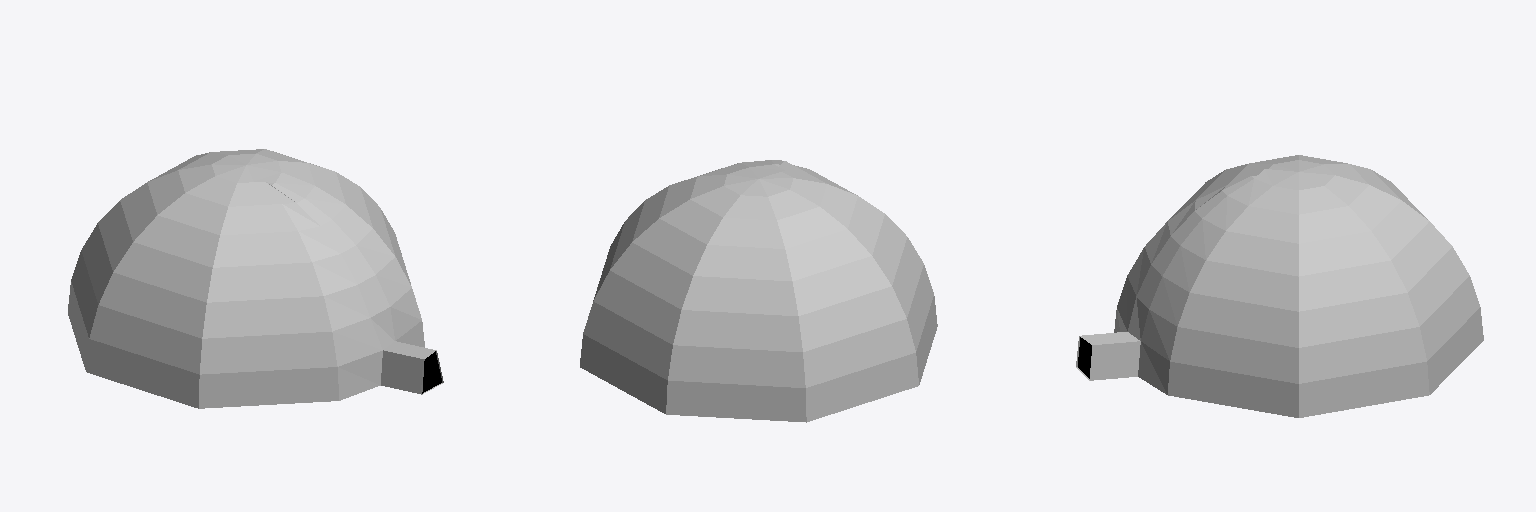
Rendered from Igloo.obj.
3 renders of one model, left to right at view 1: azimuth 30°, elevation 25°; view 2: azimuth 150°, elevation 25°; view 3: azimuth 270°, elevation 25°, orthographic.
Parts seen in each view (by area): view 1: Sphere; view 2: Sphere; view 3: Sphere.
Part boxes in pixels (left/top/right/bottom): Sphere: left=68, top=149, right=443, bottom=408; Sphere: left=580, top=160, right=937, bottom=422; Sphere: left=1076, top=155, right=1483, bottom=417.
Bounding box in the file's own units: 29.95 × 14.98 × 32.97.